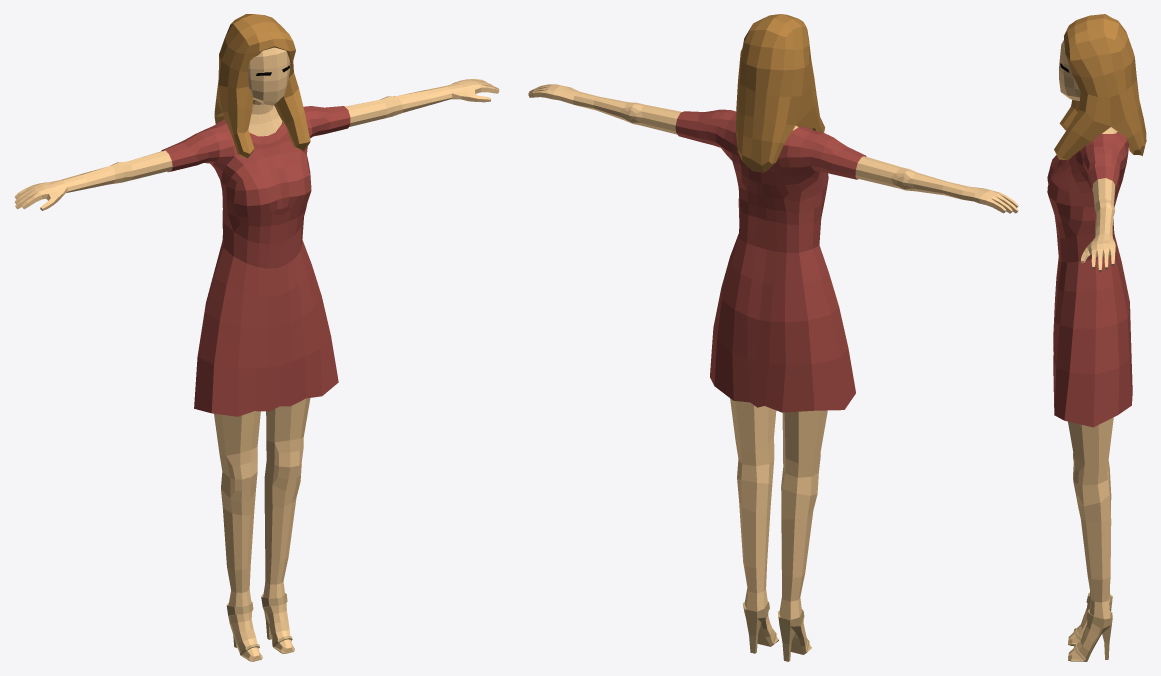
The model's file is WomanDress.obj.
3 renders of one model, left to right at view 1: azimuth 30°, elevation 25°; view 2: azimuth 150°, elevation 25°; view 3: azimuth 270°, elevation 25°, orthographic.
Parts seen in each view (by area): view 1: WomanDress; view 2: WomanDress; view 3: WomanDress.
Boxes of the visible parts, x1,y1,x2,y2 form: WomanDress: (14, 14, 499, 661); WomanDress: (528, 14, 1018, 661); WomanDress: (1047, 14, 1146, 661).
Bounding box in the file's own units: 1.4 × 1.75 × 0.249.
